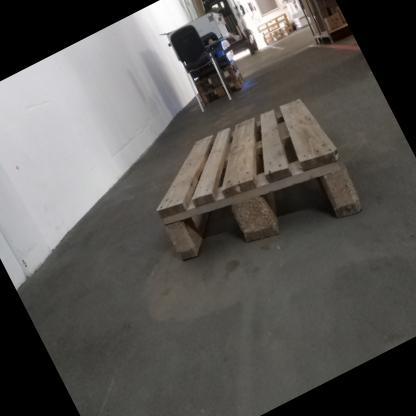BoxFace: (150, 94, 370, 263)
